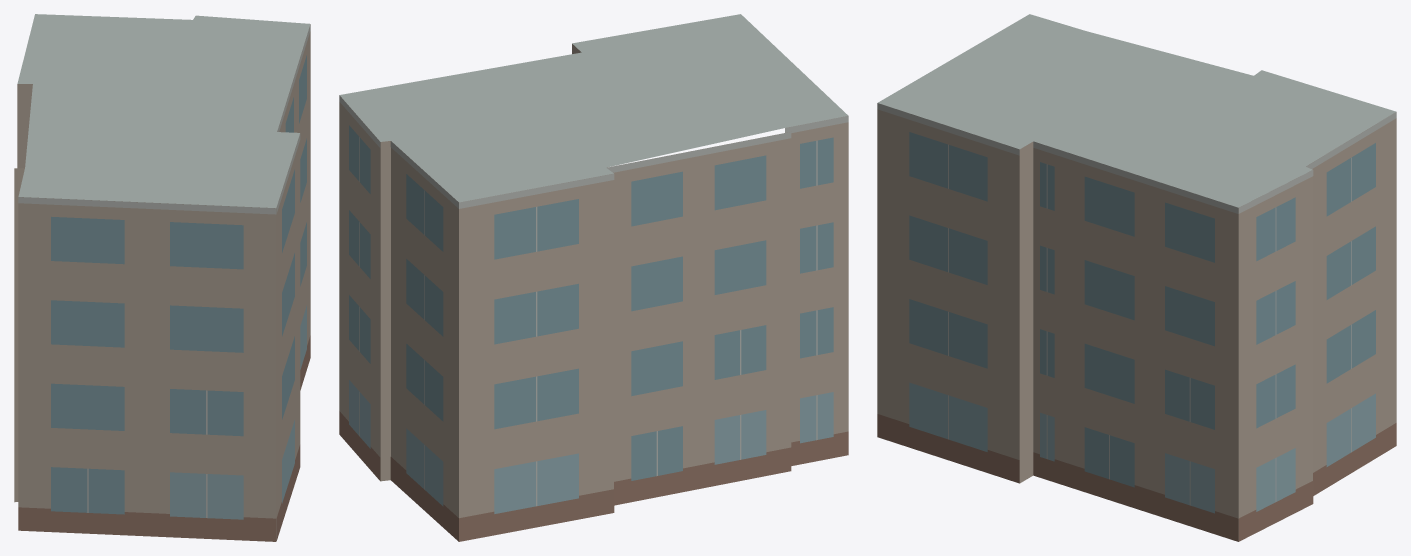
File: survey-upis-32618381.glb
3 views of the same model, side by side, from view 1: azimuth 30°, elevation 25°; view 2: azimuth 150°, elevation 25°; view 3: azimuth 270°, elevation 25° (orthographic).
Parts seen in each view (by area): view 1: survey-upis-32618381.tmp; view 2: survey-upis-32618381.tmp; view 3: survey-upis-32618381.tmp.
Part boxes in pixels (x1,y1,x2,y2): survey-upis-32618381.tmp: (14,14,310,541); survey-upis-32618381.tmp: (339,14,848,541); survey-upis-32618381.tmp: (877,14,1396,541).
Size of the model in its own units: 15.92 by 12.8 by 18.03.
